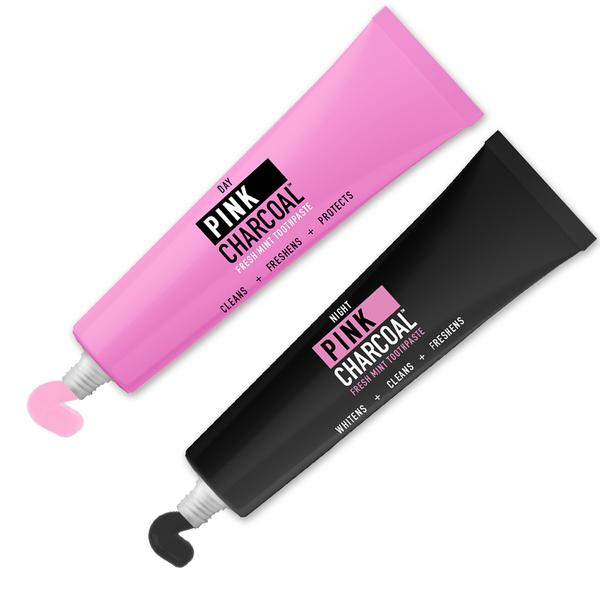toothpaste: (155, 127, 598, 552), (28, 2, 493, 406)
